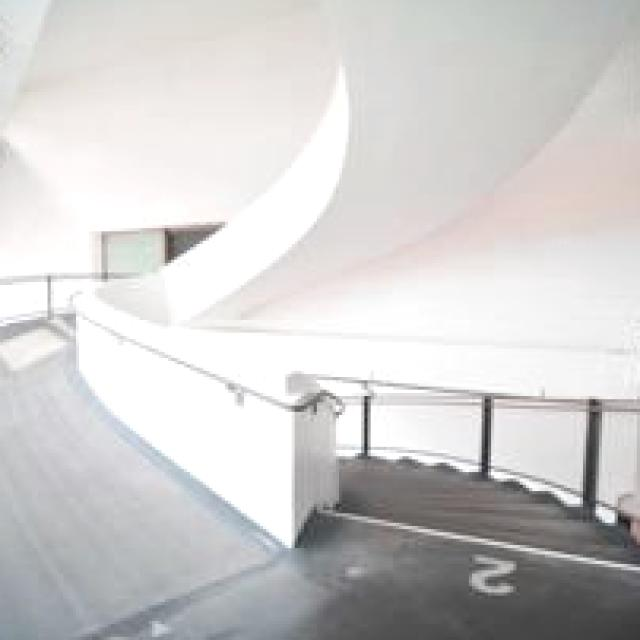downstair: (314, 343, 640, 587)
